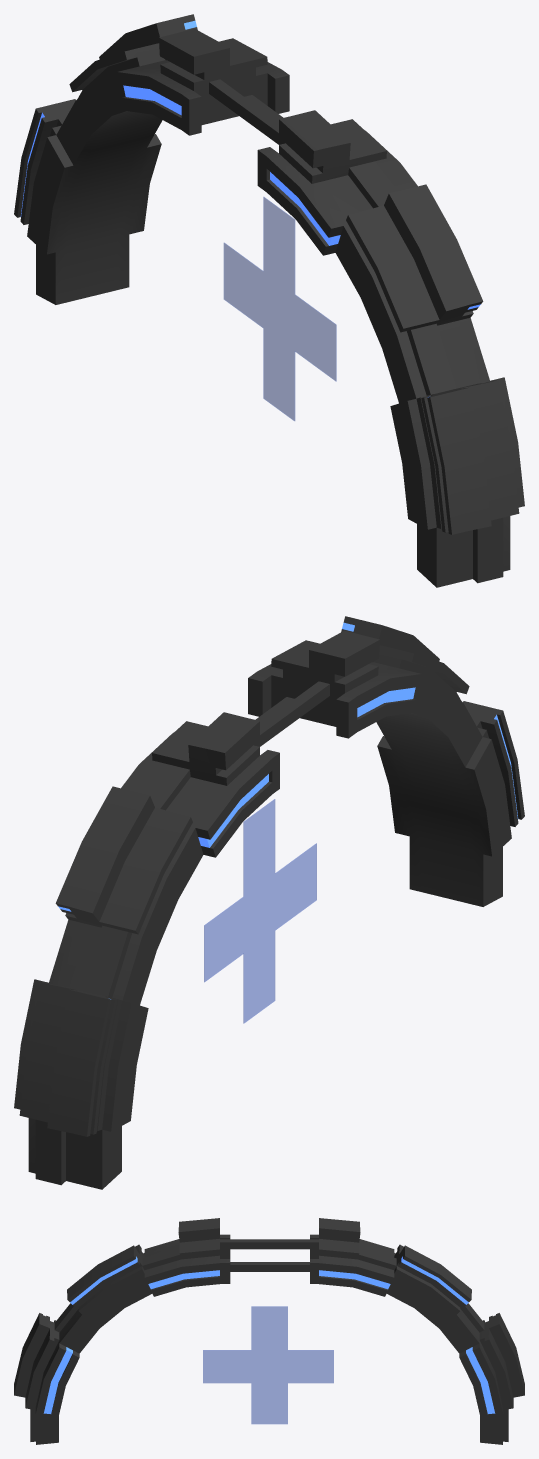
File: gate_groundWide_blue.fbx
The picture shows the model from 3 angles, top to bottom: view 1: azimuth 30°, elevation 25°; view 2: azimuth 150°, elevation 25°; view 3: azimuth 270°, elevation 25°; orthographic projection. The views are drawn at different scales.
Parts seen in each view (by area): view 1: gate_groundWide_blue; view 2: gate_groundWide_blue; view 3: gate_groundWide_blue.
Part boxes in pixels (x1=…): gate_groundWide_blue: x1=14, y1=14, x2=524, y2=587; gate_groundWide_blue: x1=14, y1=616, x2=524, y2=1189; gate_groundWide_blue: x1=14, y1=1218, x2=524, y2=1444.
Size of the model in its own units: 1.17 by 3.95 by 8.86.
